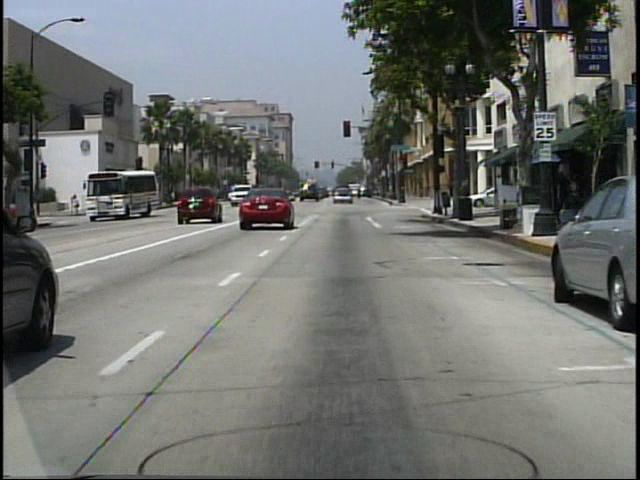person: (71, 194, 82, 215)
